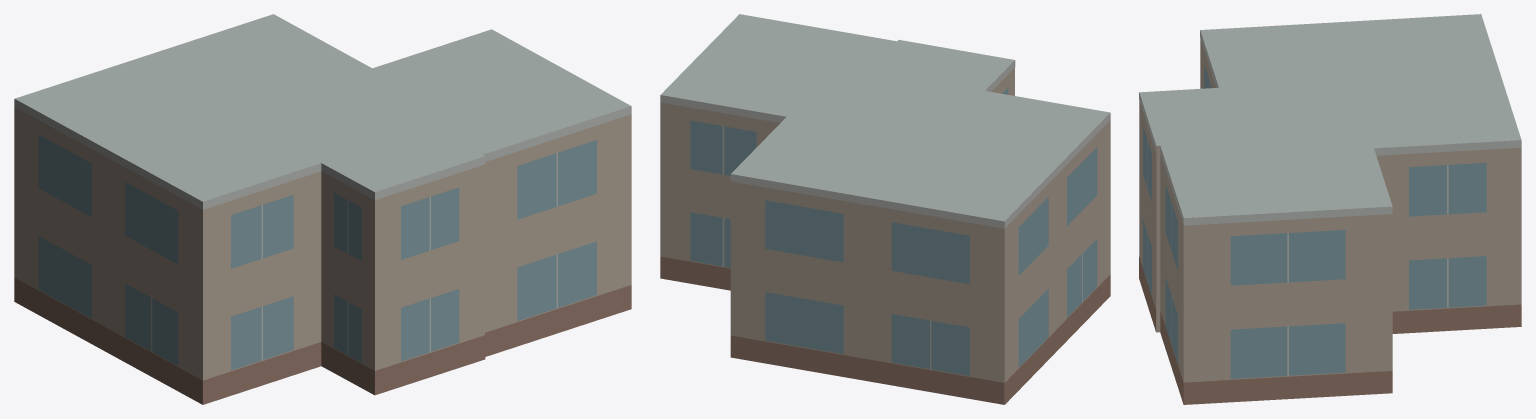
File: survey-upis-32777742.glb
The picture shows the model from 3 angles, left to right: view 1: azimuth 30°, elevation 25°; view 2: azimuth 150°, elevation 25°; view 3: azimuth 270°, elevation 25°; orthographic projection. The views are drawn at different scales.
Visible parts, largest first — view 1: survey-upis-32777742.tmp; view 2: survey-upis-32777742.tmp; view 3: survey-upis-32777742.tmp.
Boxes of the visible parts, x1=… form: survey-upis-32777742.tmp: x1=14, y1=14, x2=631, y2=404; survey-upis-32777742.tmp: x1=660, y1=14, x2=1110, y2=404; survey-upis-32777742.tmp: x1=1139, y1=14, x2=1521, y2=404.
Size of the model in its own units: 14.33 by 6.1 by 11.34.
